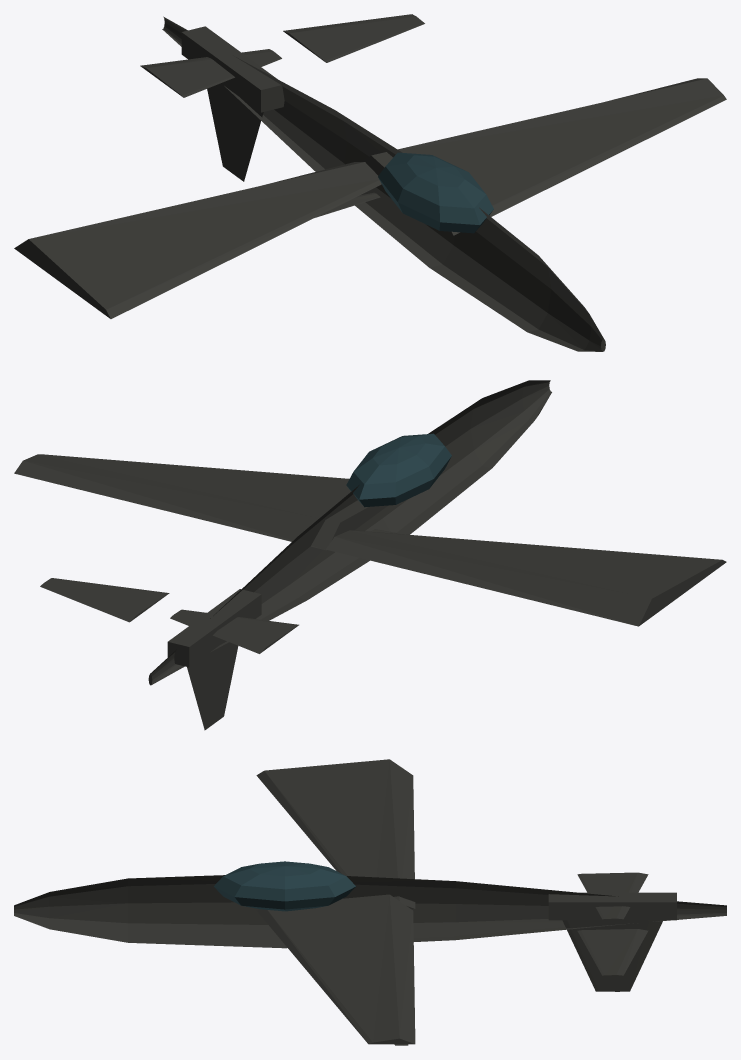
File: su25_Destroyed.glb
The picture shows the model from 3 angles, top to bottom: view 1: azimuth 30°, elevation 25°; view 2: azimuth 150°, elevation 25°; view 3: azimuth 270°, elevation 25°; orthographic projection. The views are drawn at different scales.
Parts seen in each view (by area): view 1: Wing_L, Fuselage, Wing_R, Cockpit, TailBoom, Elevator_R, Rudder, Elevator_L; view 2: Wing_L, Wing_R, Fuselage, Cockpit, TailBoom, Elevator_R, Rudder, Elevator_L; view 3: Fuselage, Wing_R, Wing_L, Cockpit, TailBoom, Rudder, Elevator_R, Elevator_L.
Boxes of the visible parts, <box> form: Wing_L: <box>14,162,381,318</box>; Fuselage: <box>162,16,605,351</box>; Wing_R: <box>361,78,726,235</box>; Cockpit: <box>378,152,493,233</box>; TailBoom: <box>181,26,284,112</box>; Elevator_R: <box>283,14,424,62</box>; Rudder: <box>207,83,263,181</box>; Elevator_L: <box>140,49,281,97</box>; Wing_L: <box>326,530,726,626</box>; Wing_R: <box>14,454,387,550</box>; Fuselage: <box>148,380,551,685</box>; Cockpit: <box>346,433,451,507</box>; TailBoom: <box>167,589,261,667</box>; Elevator_R: <box>40,578,169,622</box>; Rudder: <box>187,641,238,730</box>; Elevator_L: <box>170,609,298,653</box>; Fuselage: <box>14,875,726,948</box>; Wing_R: <box>256,894,415,1044</box>; Wing_L: <box>256,759,415,908</box>; Cockpit: <box>214,861,355,911</box>; TailBoom: <box>548,892,676,920</box>; Rudder: <box>562,920,662,991</box>; Elevator_R: <box>577,929,648,975</box>; Elevator_L: <box>577,872,648,919</box>.
Size of the model in its own units: 13.79 by 2.98 by 15.36.
